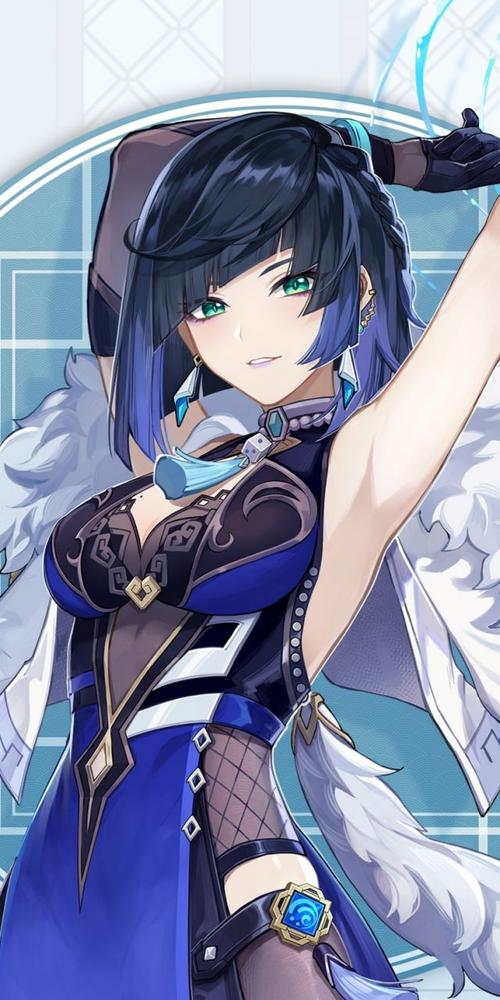夜兰: (2, 115, 500, 1000)
